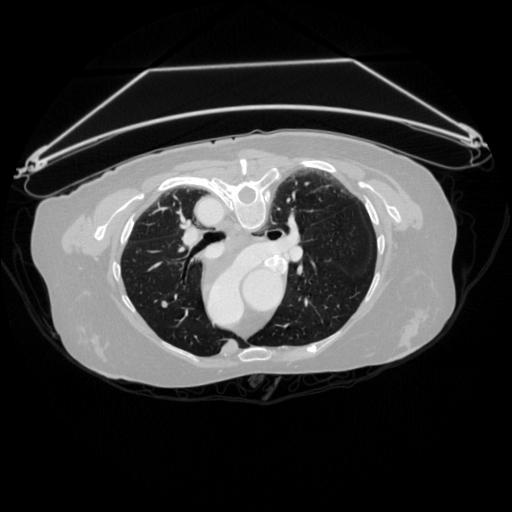nodule: (159, 299, 172, 312)
